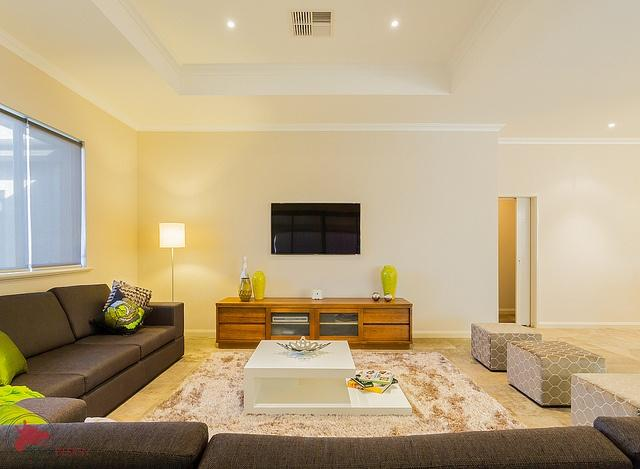AIO PC-Monitor-TV: (269, 201, 360, 255)
